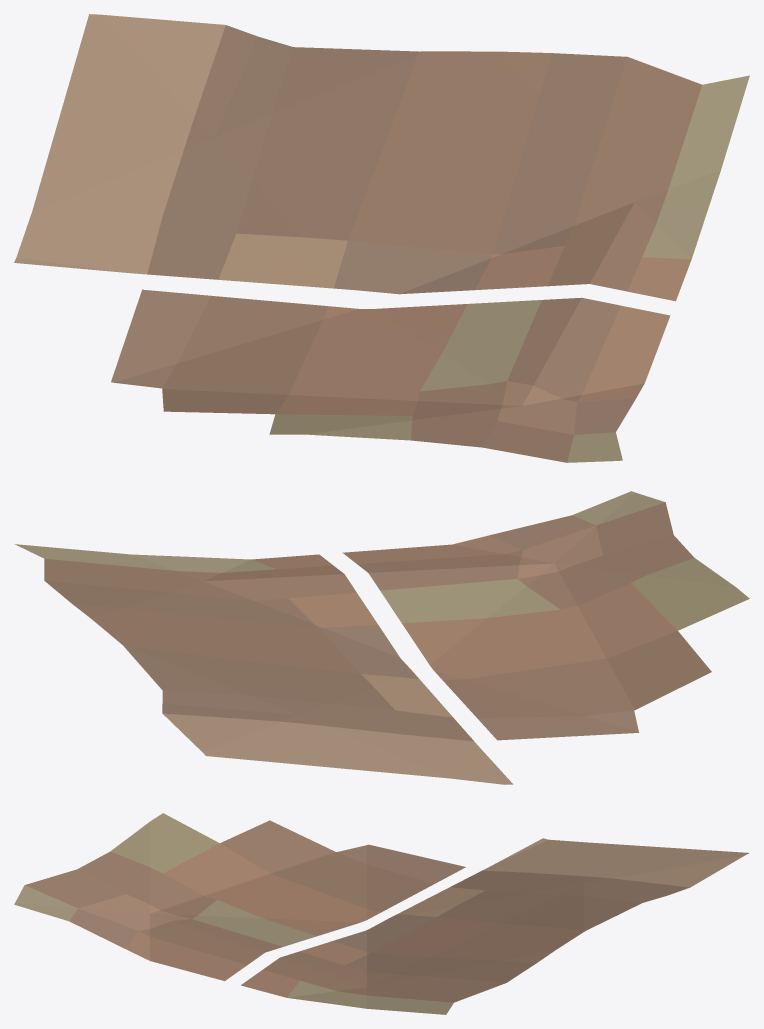
File: farm_-35_-27_soil.glb
3 views of the same model, one above another, from view 1: azimuth 30°, elevation 25°; view 2: azimuth 150°, elevation 25°; view 3: azimuth 270°, elevation 25° (orthographic). The views are drawn at different scales.
Visible parts, largest first — view 1: geometry_0; view 2: geometry_0; view 3: geometry_0.
Part boxes in pixels (bbox=[...]): geometry_0: bbox=[14, 14, 749, 462]; geometry_0: bbox=[14, 491, 749, 784]; geometry_0: bbox=[14, 813, 749, 1014].
Size of the model in its own units: 214 by 31.48 by 271.
